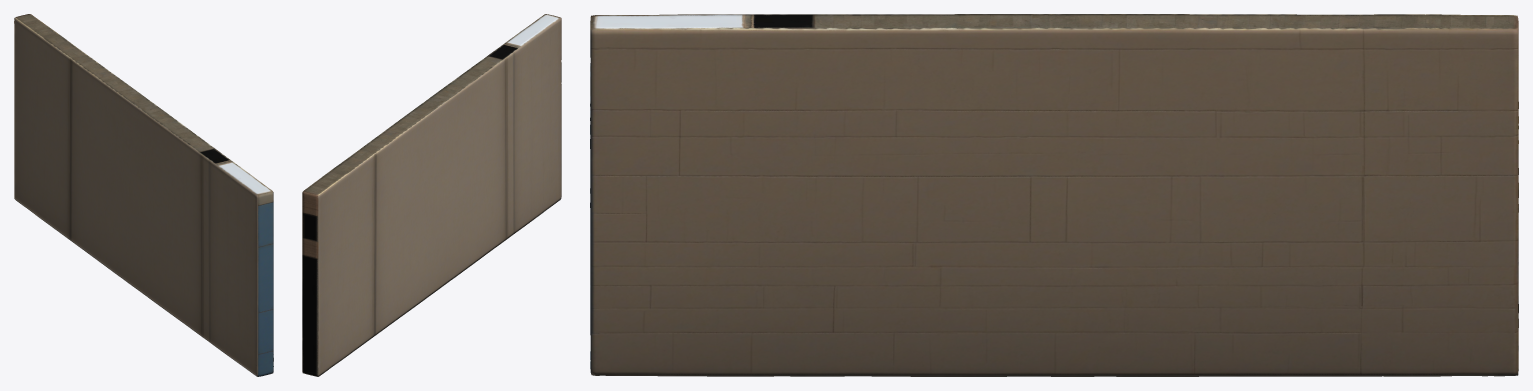
The model's file is floor.glb.
3 views of the same model, side by side, from view 1: azimuth 30°, elevation 25°; view 2: azimuth 150°, elevation 25°; view 3: azimuth 270°, elevation 25° (orthographic). The views are drawn at different scales.
Bounding box in the file's own units: 0.0796 × 0.8285 × 2.
1 material, 1 textured.
